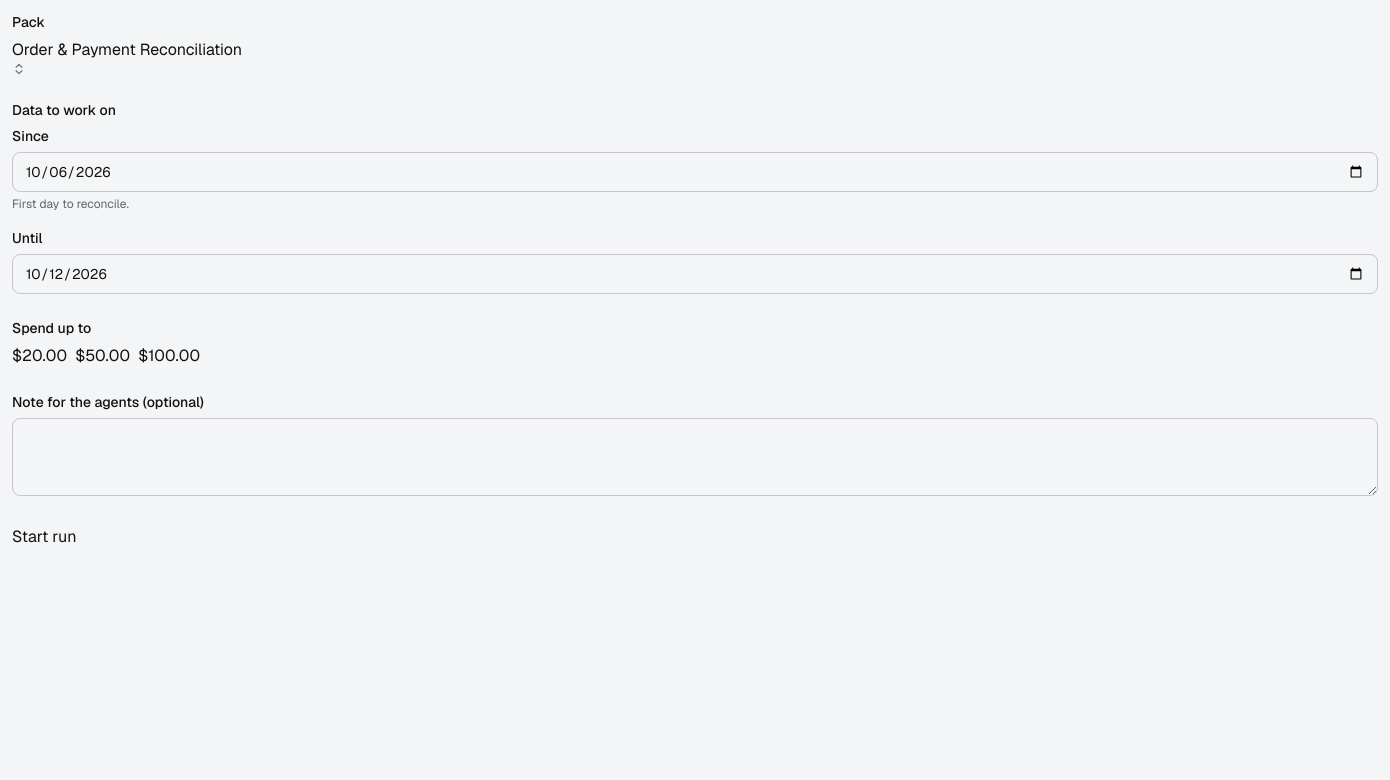
StartRunFields from an input schema › names each missing required field instead of submitting
Clear the date field labelled "Since" at (695, 172), box [12, 152, 1378, 192]
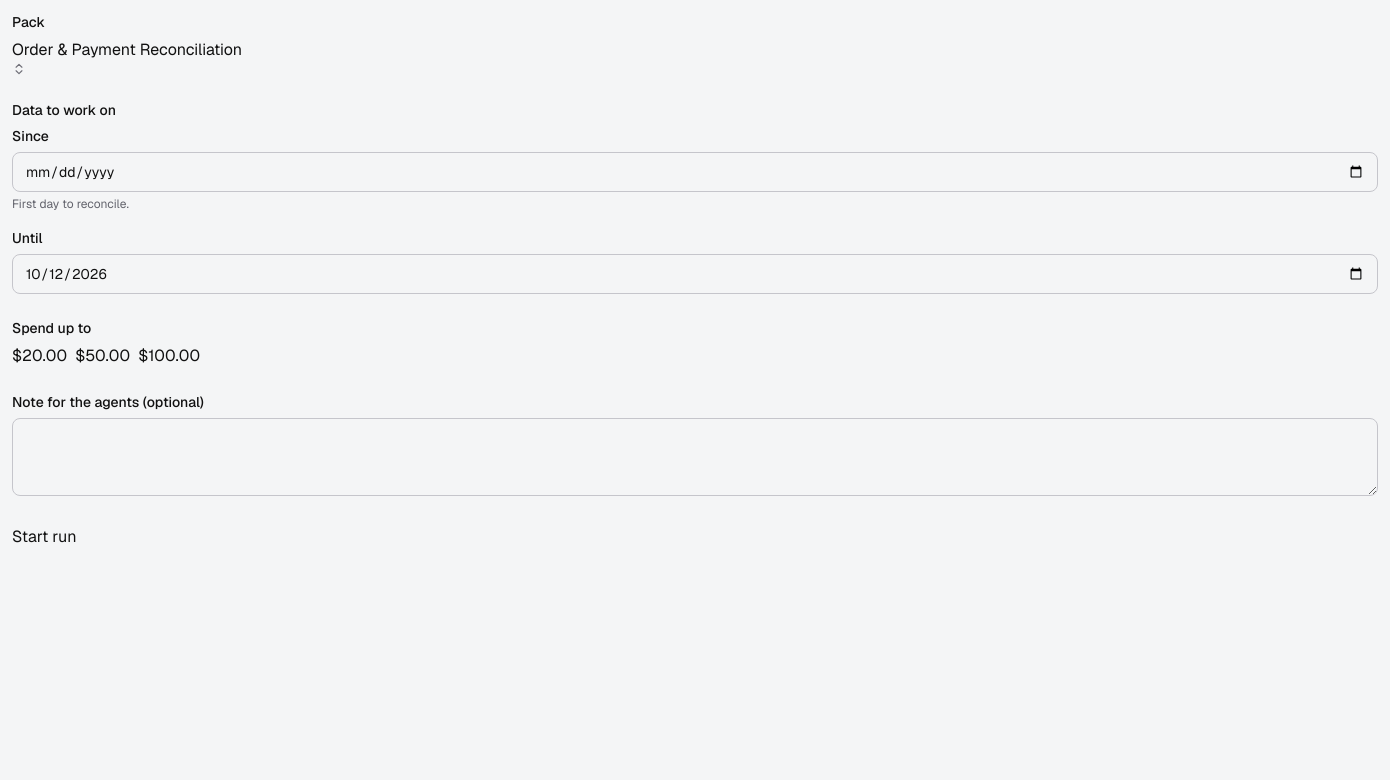
Clear the date field labelled "Until" at (695, 274), box [12, 254, 1378, 294]
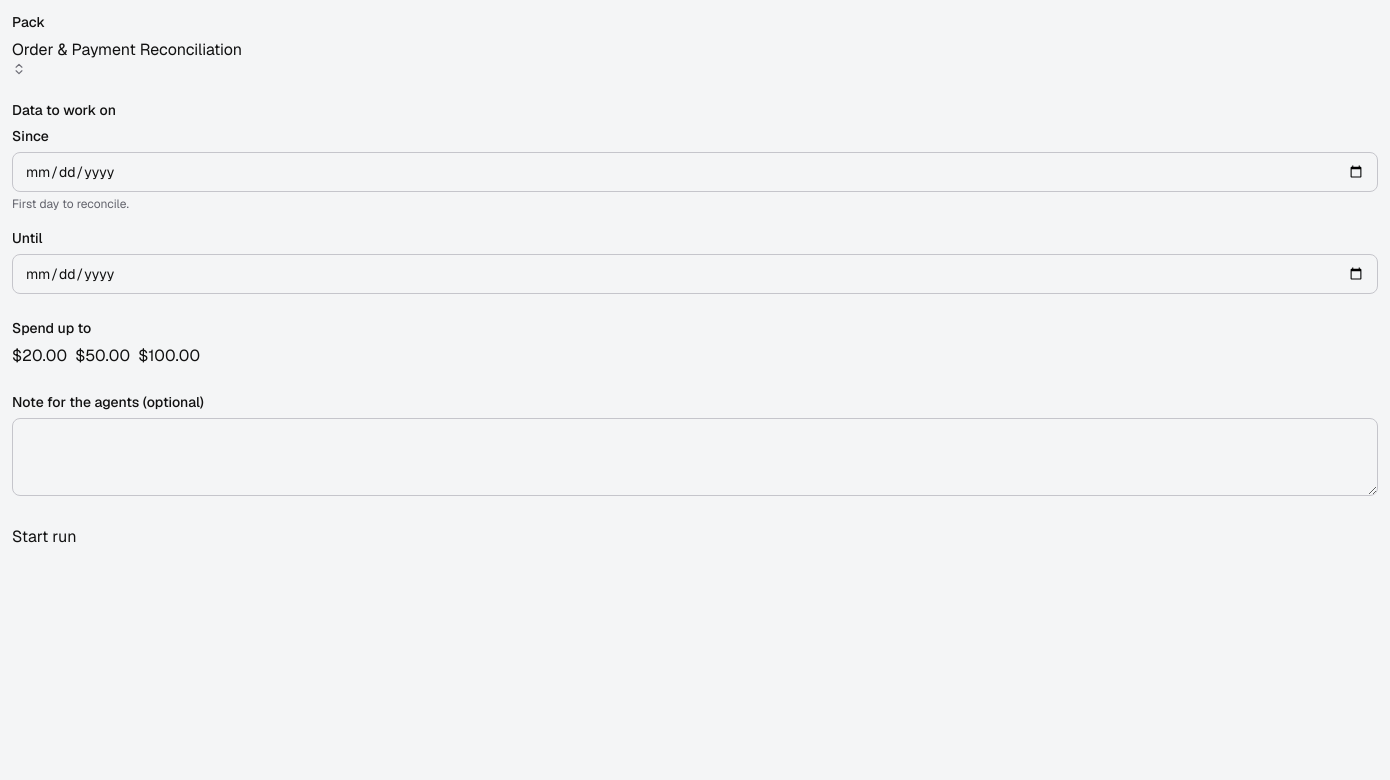
Click the button "Start run" at (44, 537), box [12, 525, 76, 549]
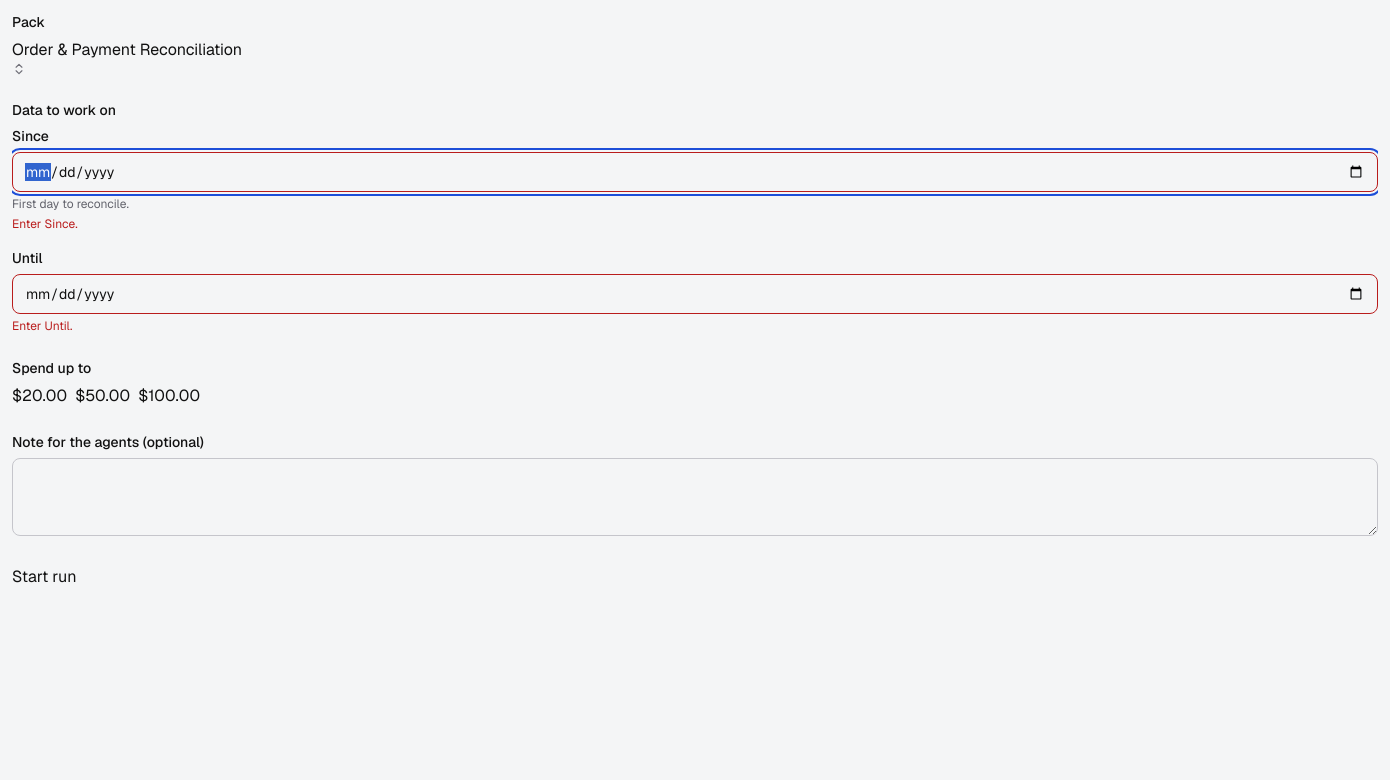
expect the text "Enter Since." is shown: met, box [12, 216, 78, 232]
expect the text "Enter Until." is shown: met, box [12, 318, 72, 334]
